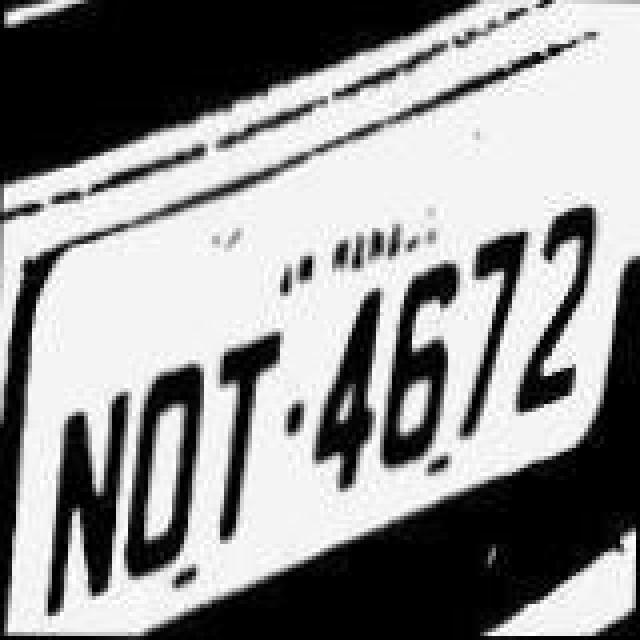2: (520, 198, 600, 418)
4: (306, 286, 386, 502)
6: (380, 258, 468, 478)
7: (458, 222, 534, 454)
N: (36, 386, 132, 622)
O: (120, 338, 212, 586)
T: (206, 328, 286, 544)
